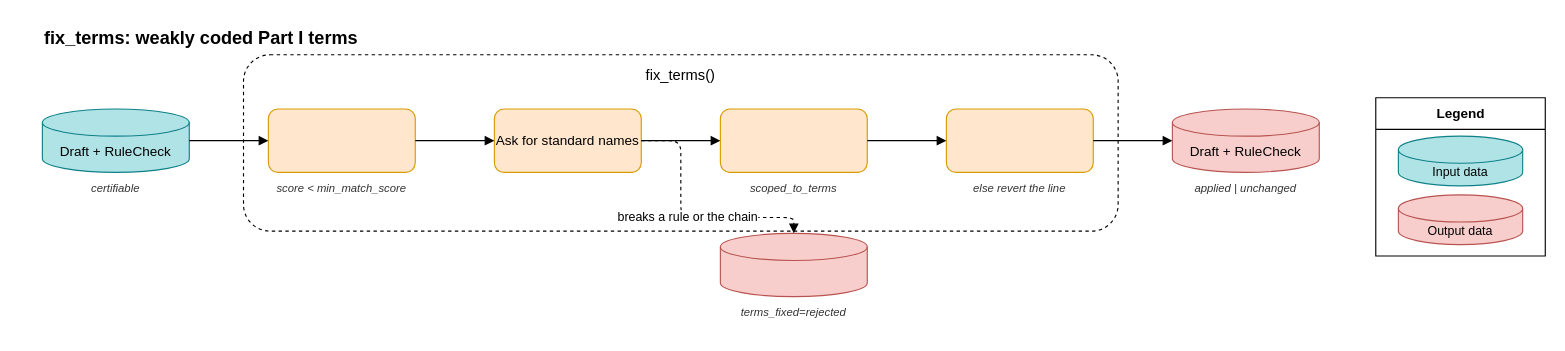
Image size: 1565x351. Some labels were removed from this diagram. The centre of each missing label's shape, as x and y in pixels:
Find weak terms: (341,140)
First draft: (793,264)
Keep better scores: (1019,140)
Take Part I terms only: (793,140)
